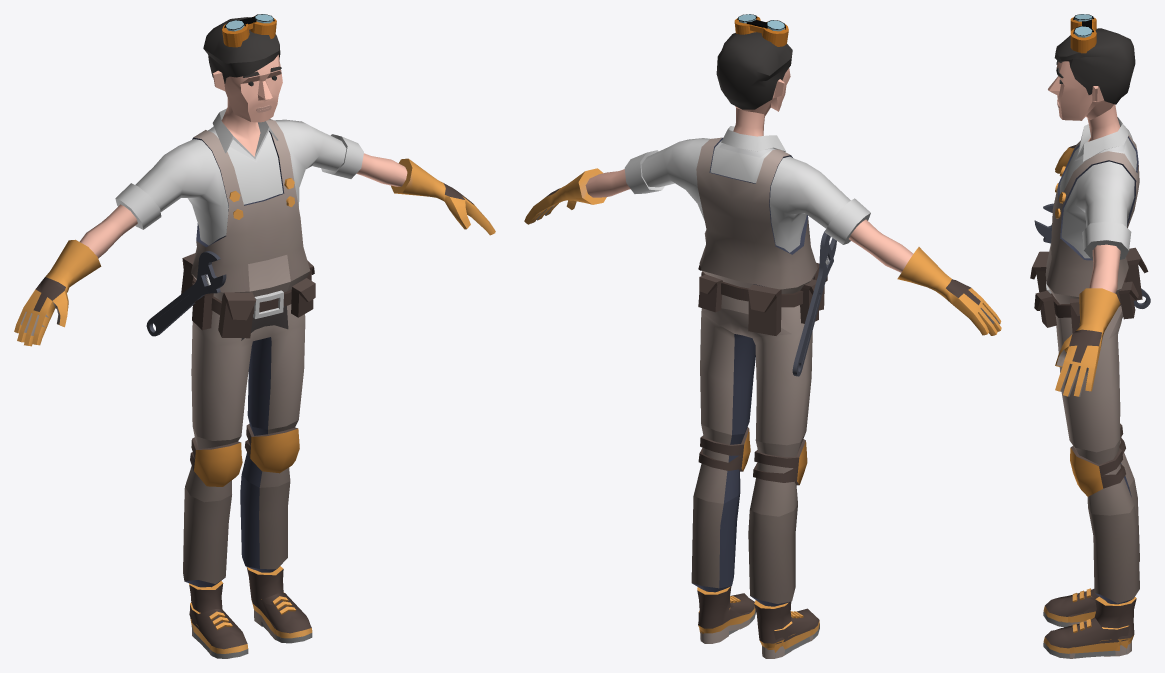
File: PersoPFE.fbx
3 renders of one model, left to right at view 1: azimuth 30°, elevation 25°; view 2: azimuth 150°, elevation 25°; view 3: azimuth 270°, elevation 25°, orthographic.
Visible parts, largest first — view 1: Player, clé_molette, Cube.001; view 2: Player, clé_molette, Cube.001; view 3: Player, Cube.001, clé_molette.
Part boxes in pixels (x1=…): Player: x1=14, y1=17, x2=495, y2=658; clé_molette: x1=146, y1=251, x2=226, y2=336; Cube.001: x1=222, y1=14, x2=276, y2=47; Player: x1=524, y1=32, x2=1001, y2=658; clé_molette: x1=792, y1=230, x2=836, y2=376; Cube.001: x1=734, y1=14, x2=788, y2=46; Player: x1=1030, y1=28, x2=1148, y2=658; Cube.001: x1=1070, y1=14, x2=1096, y2=53; clé_molette: x1=1034, y1=203, x2=1150, y2=308.
Size of the model in its own units: 161 by 201 by 35.89.
